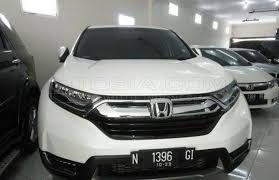plate: (131, 147, 196, 167)
